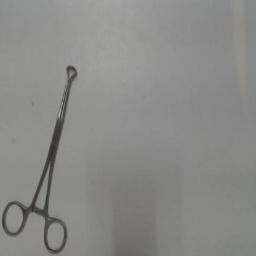Babcock Tissue Forceps: (2, 60, 80, 256)
